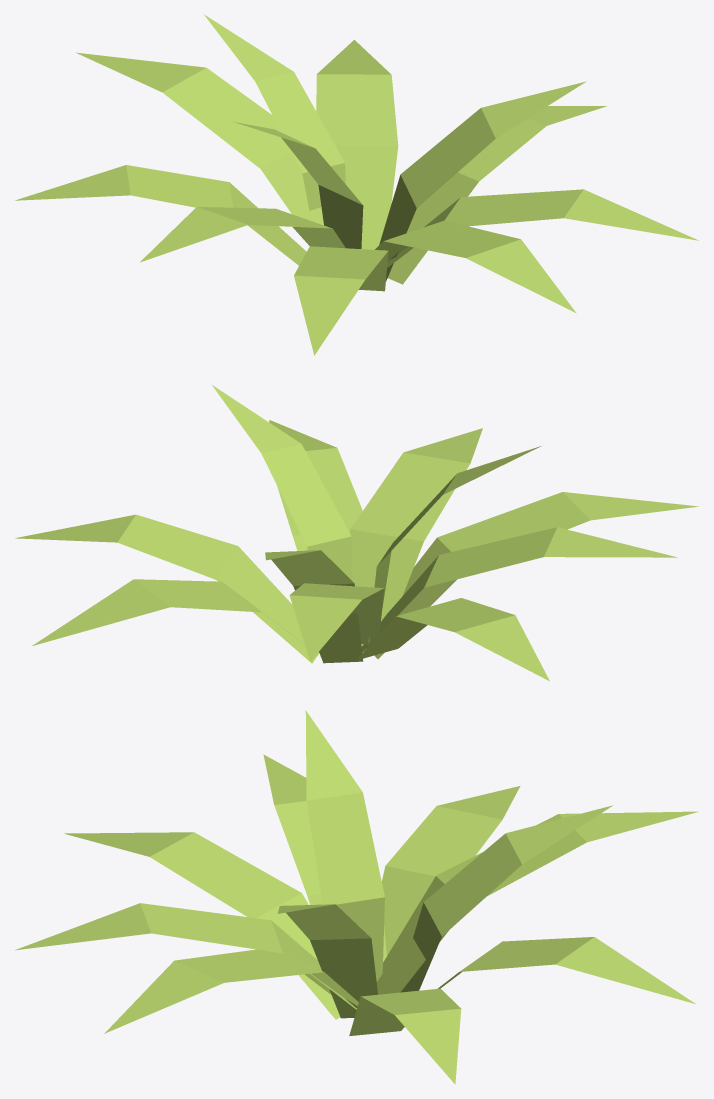
Rendered from Plant2_oneside.fbx.
3 views of the same model, one above another, from view 1: azimuth 30°, elevation 25°; view 2: azimuth 150°, elevation 25°; view 3: azimuth 270°, elevation 25° (orthographic). The views are drawn at different scales.
Visible parts, largest first — view 1: Plant2_oneside; view 2: Plant2_oneside; view 3: Plant2_oneside.
Boxes of the visible parts, x1,y1,x2,y2 form: Plant2_oneside: (15,14,698,355); Plant2_oneside: (15,384,698,681); Plant2_oneside: (15,710,698,1084).
Bounding box in the file's own units: 1.49 × 0.5709 × 1.54.
